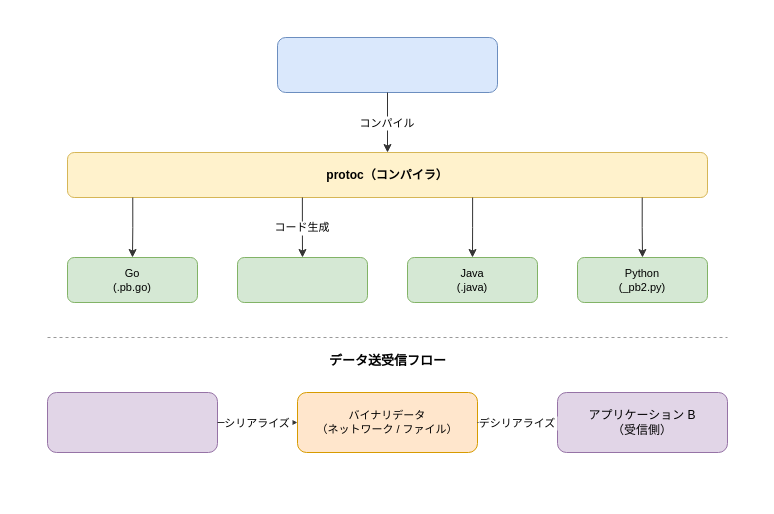
This 774x514 diagram has some shape labels left out. Here are the shapes that lost their labels. From the top down, the box of each, then its label:
(276, 36, 498, 92): .proto ファイル （スキーマ定義）
(236, 256, 368, 302): Rust (.rs)
(46, 392, 218, 452): アプリケーション A （送信側）
